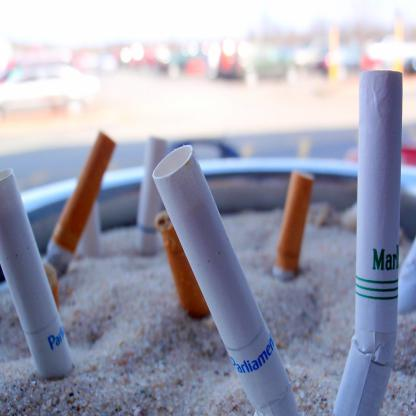smoking: (152, 145, 298, 415), (334, 69, 402, 416), (0, 168, 74, 380)
